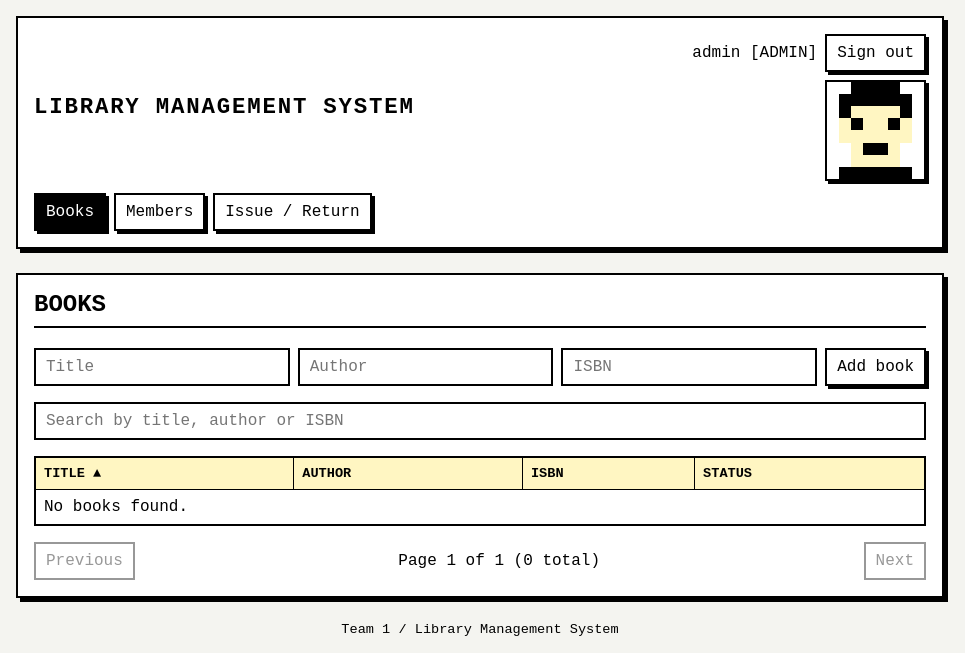
it: App › returns to the login page after signing out
Click the button "Sign out": (876, 53) [825,34,926,72]
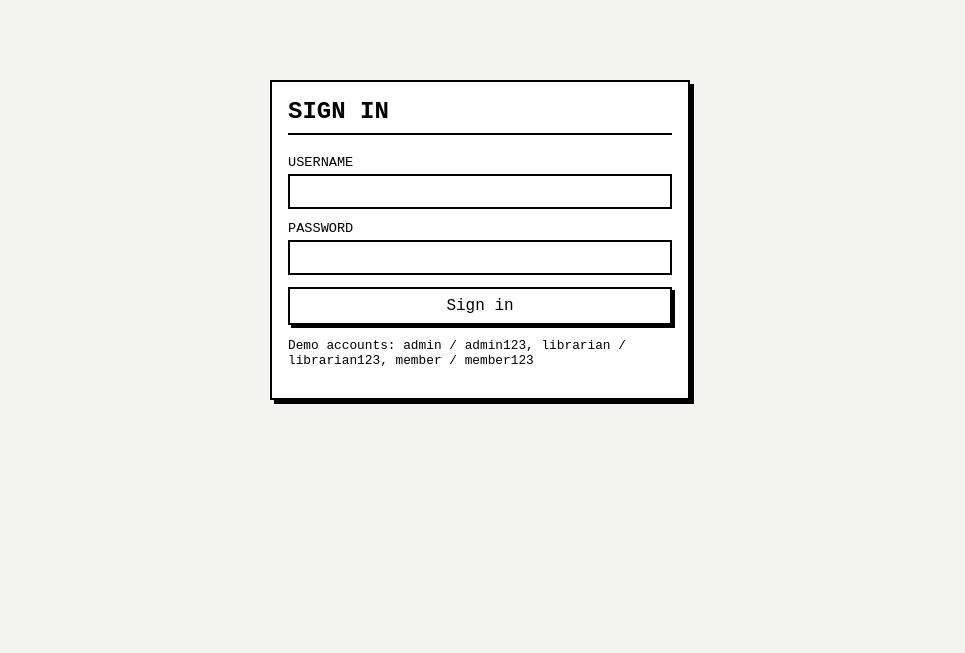
Expected: the heading "Sign in" is shown, [288,98,672,135]
